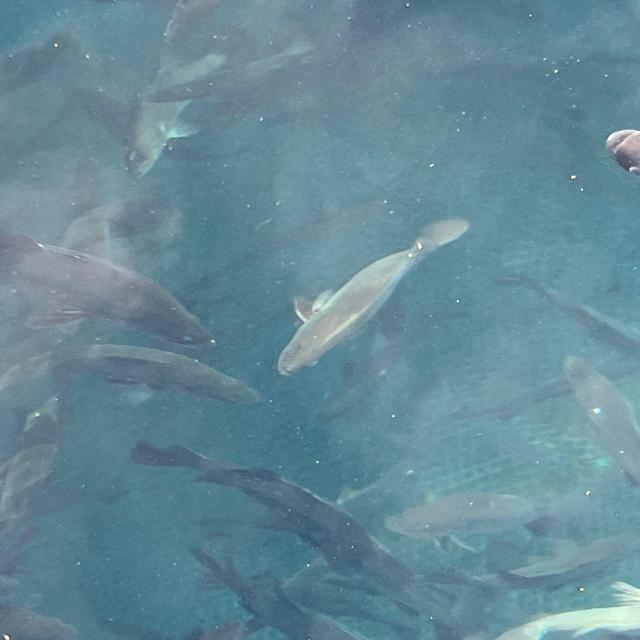ikan: (252, 219, 474, 387)
